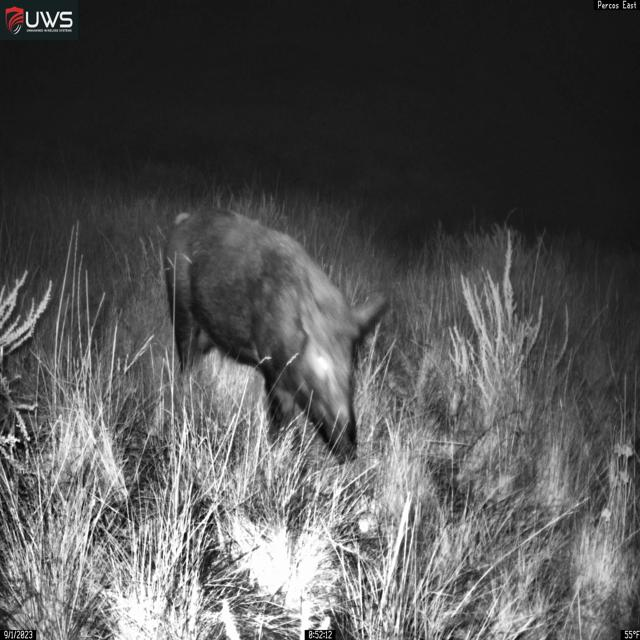pig: (163, 206, 390, 468)
